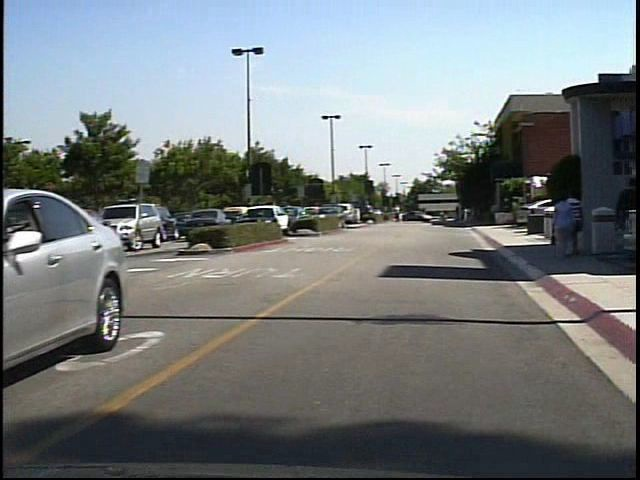person: (560, 191, 587, 265), (574, 189, 595, 259), (400, 203, 410, 224)
